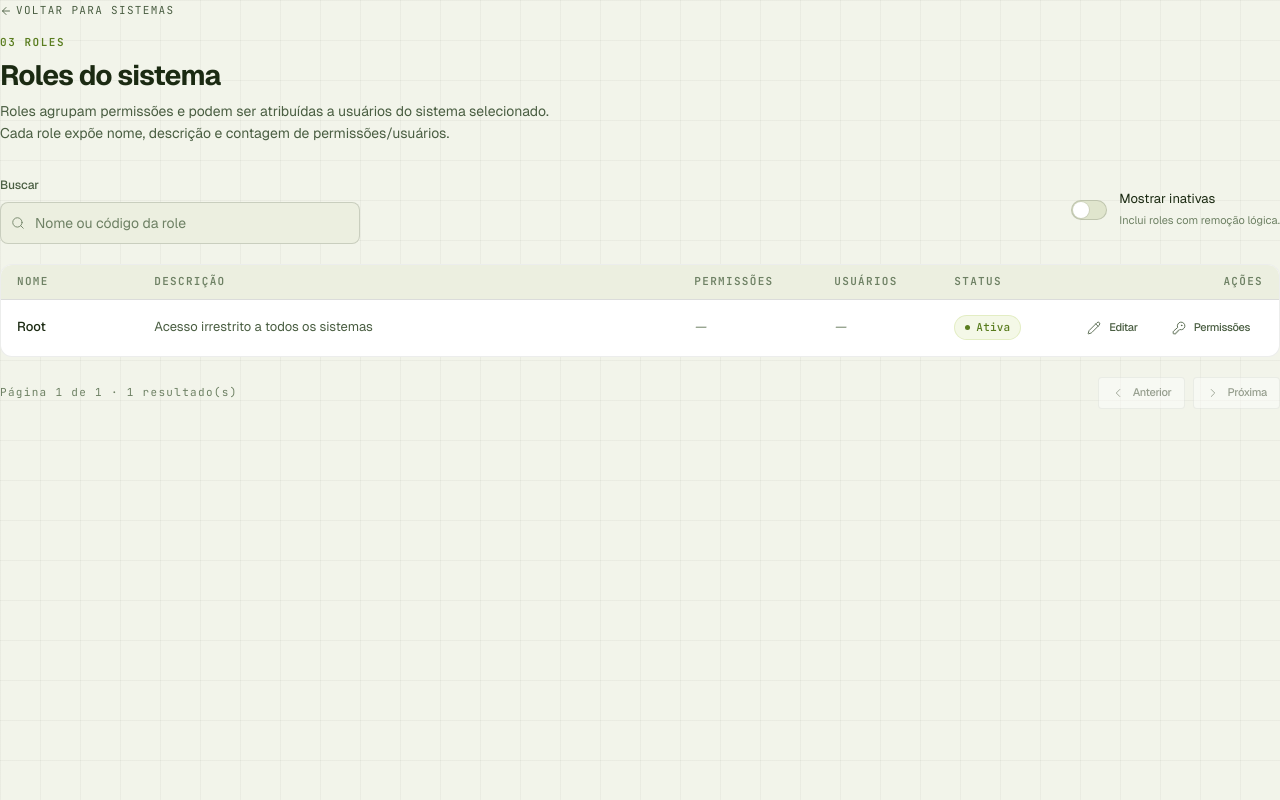
RolesPage — edição (Issue #68) › abertura e pré-preenchimento do modal › clicar em "Editar" abre o diálogo pré-populado com os dados da role
The width and height of the screenshot is (1280, 800).
Click the button "Editar" at (1112, 328), box [1074,312,1151,344]
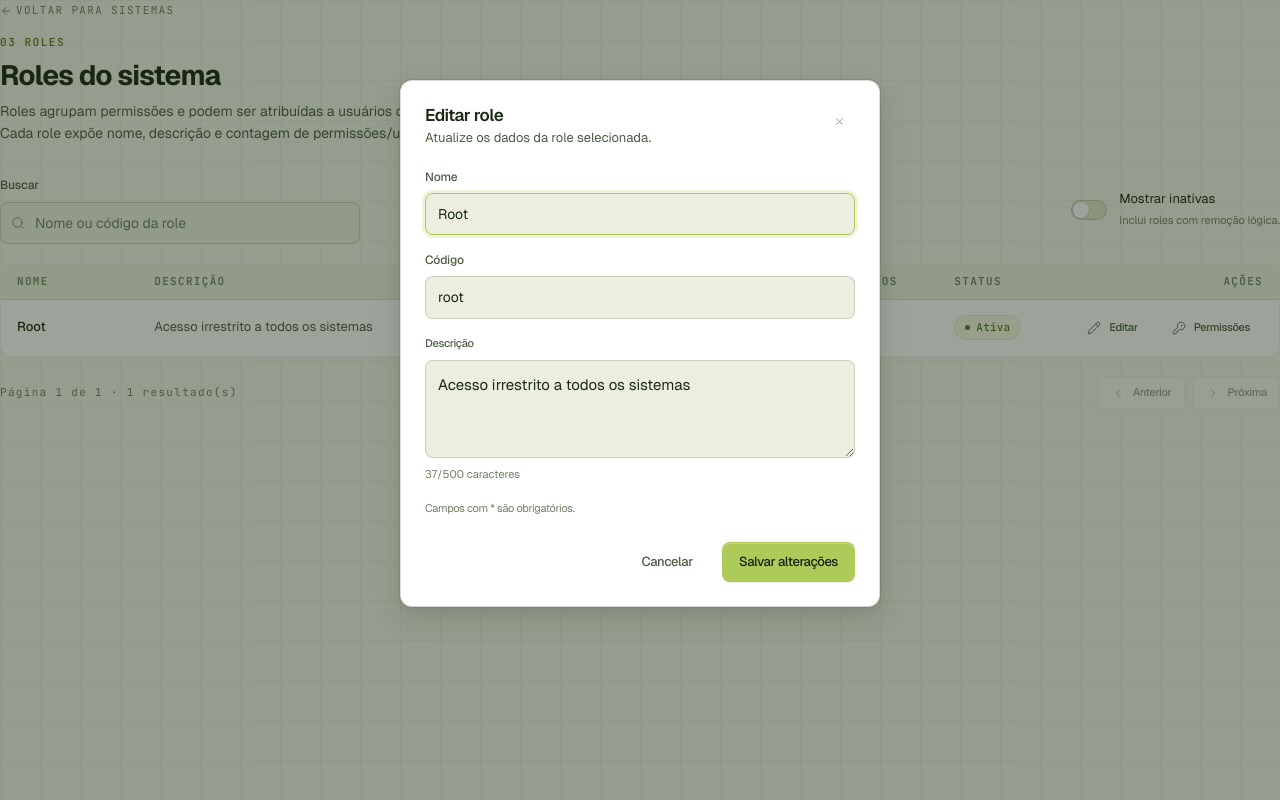
Expected: the form with test id "edit-role-form" is shown, [425,168,855,582]
Expected: the dialog is shown, [400,80,880,606]
Expected: the field with test id "edit-role-name" holds "Root", [425,193,855,235]
